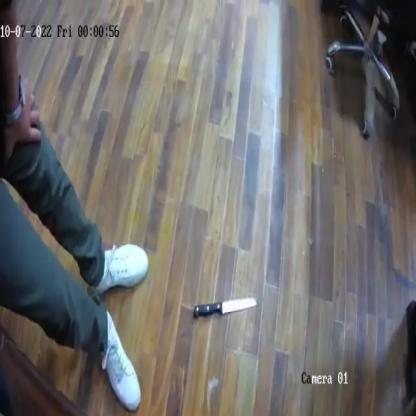Knife: (190, 296, 260, 318)
